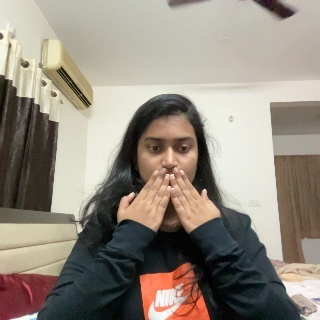Thank You: (115, 169, 226, 239)
